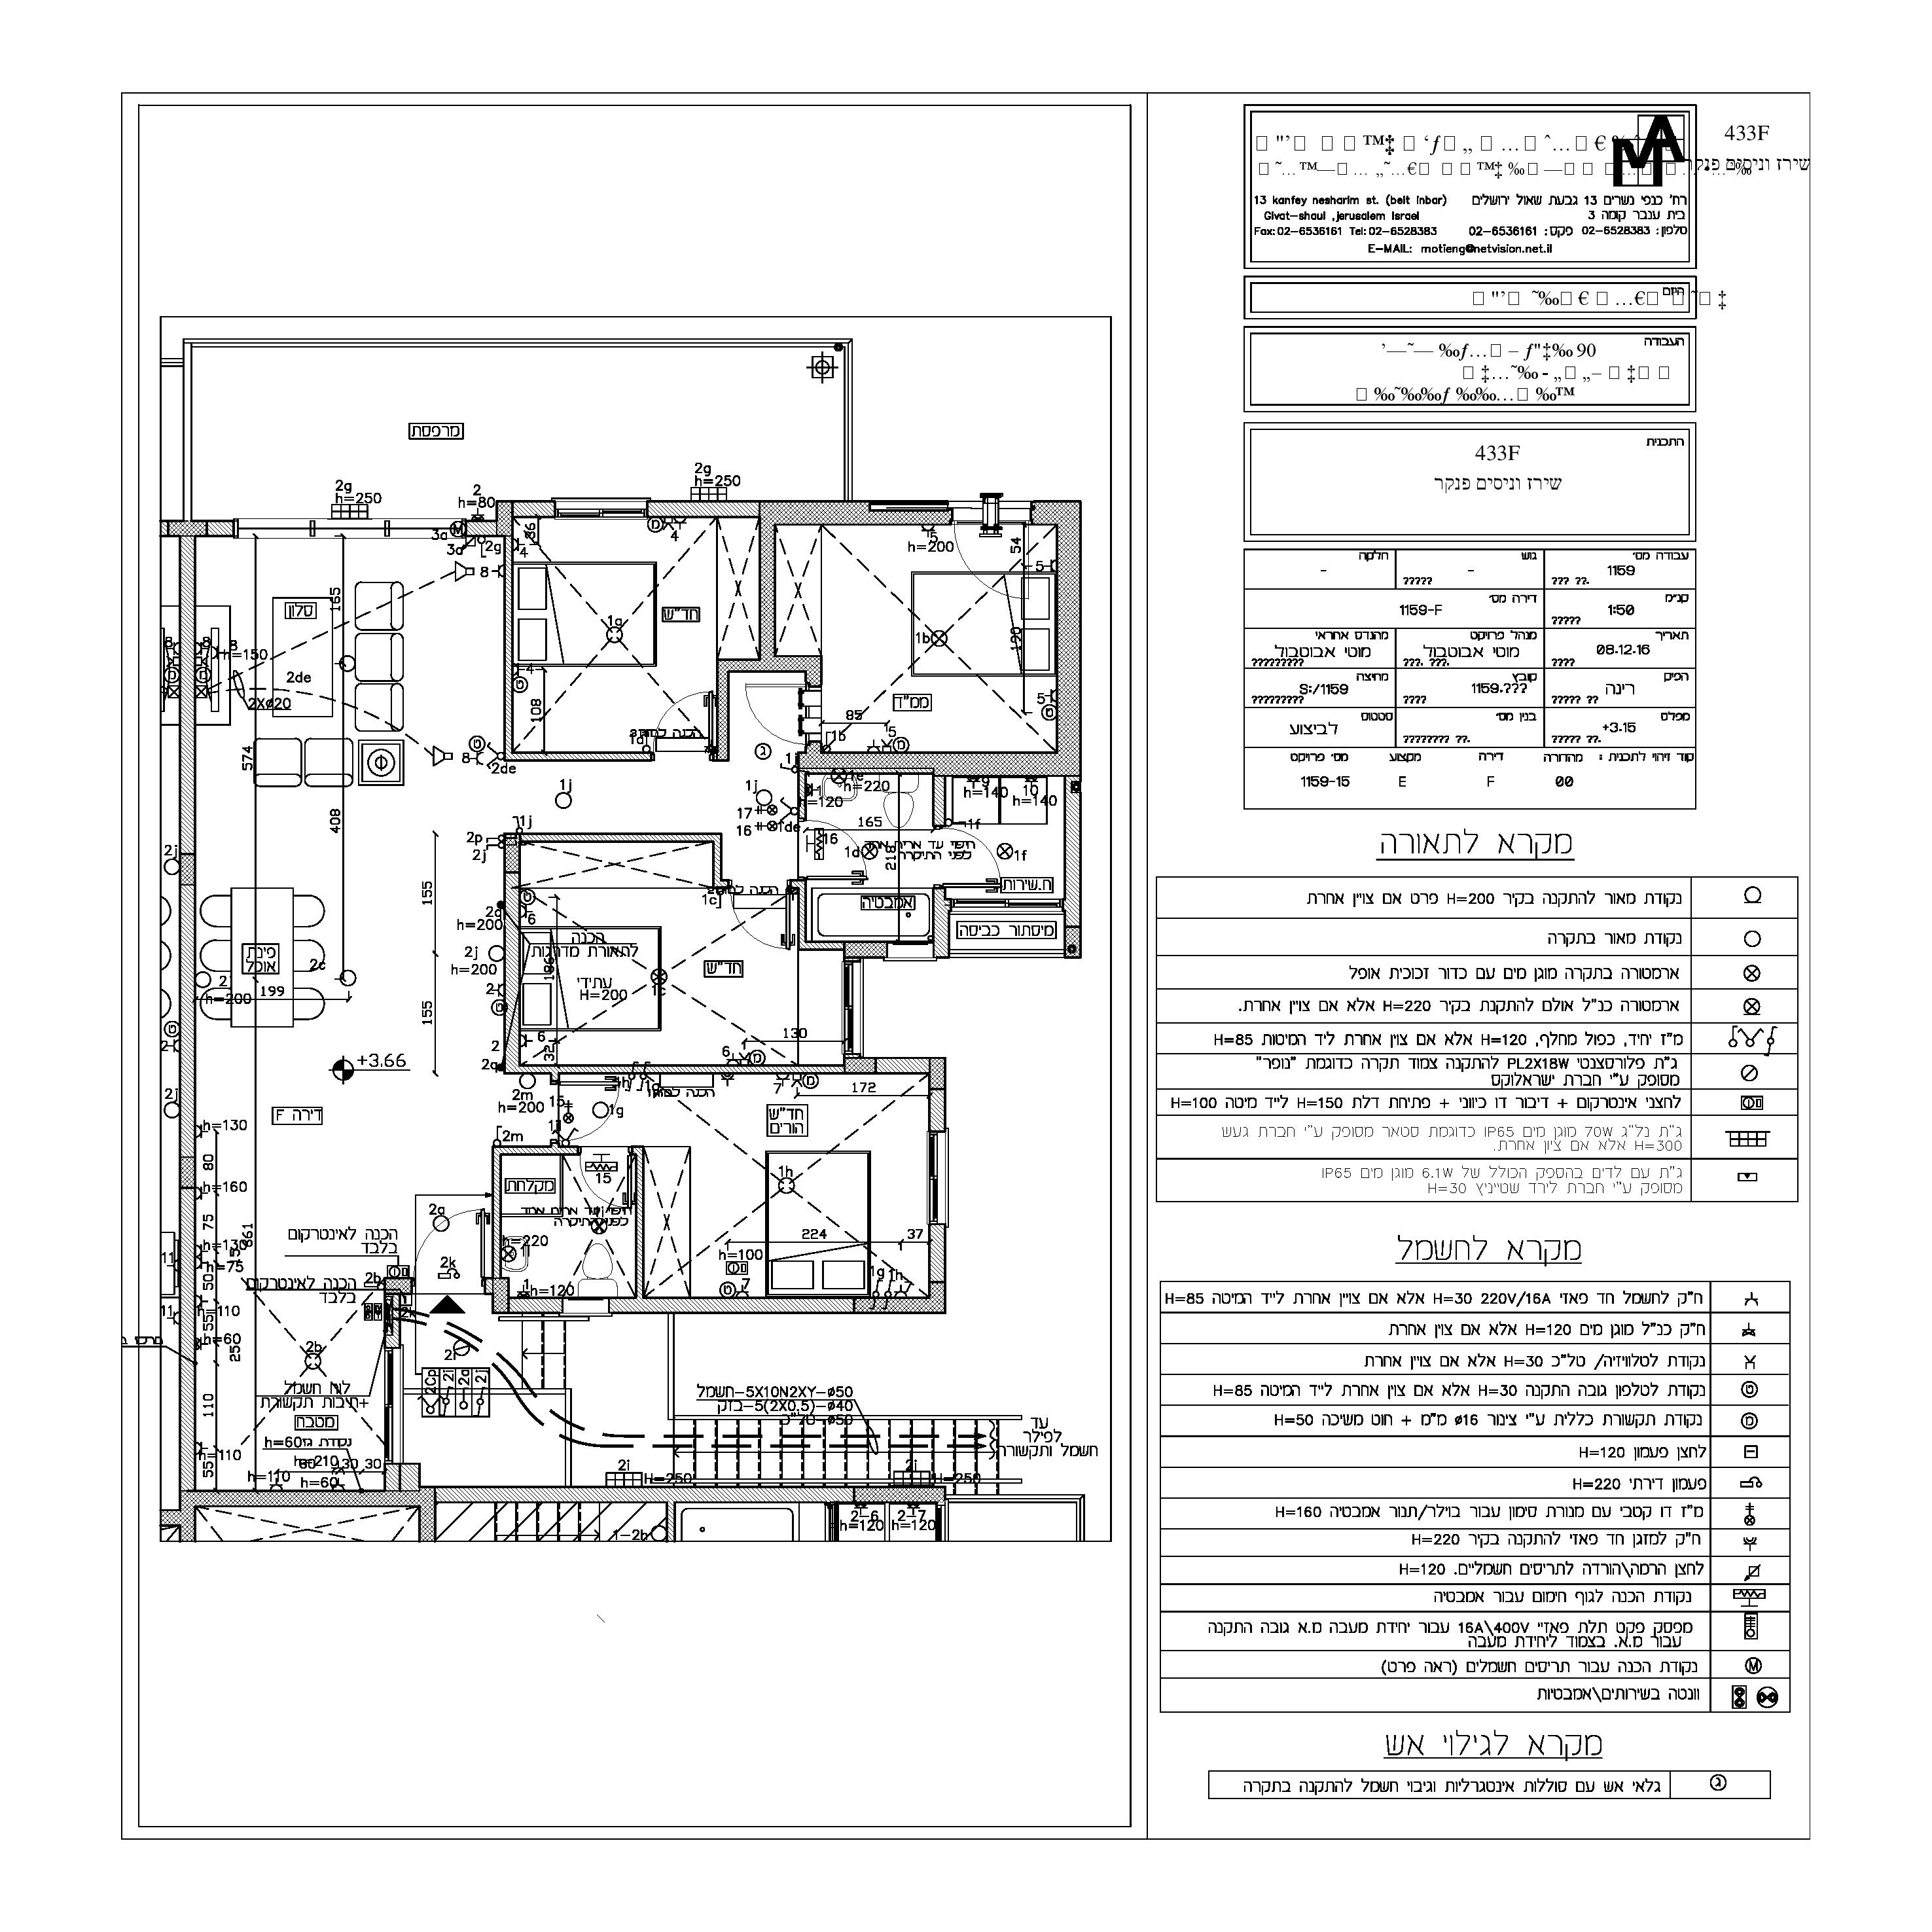door: (809, 816, 869, 885), (948, 823, 1008, 892), (740, 679, 798, 748), (556, 1090, 623, 1143), (570, 1157, 637, 1210)
wall: (1056, 501, 1081, 777), (180, 536, 196, 856), (180, 885, 195, 1159), (934, 754, 1081, 775), (759, 501, 777, 671), (759, 501, 869, 524), (718, 662, 729, 761), (869, 511, 952, 524)
window: (925, 1131, 952, 1230), (550, 501, 649, 520)
